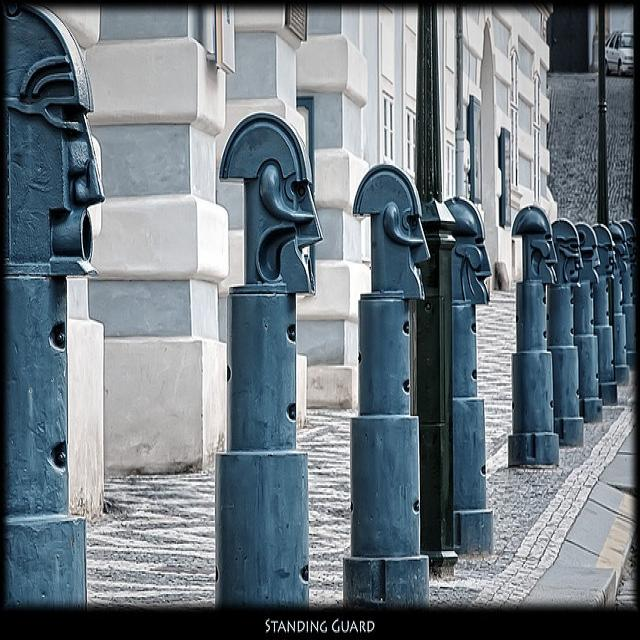car: (604, 29, 632, 73)
fire_hydrant: (214, 109, 320, 606), (341, 154, 435, 604), (441, 192, 498, 551), (509, 199, 561, 465)
